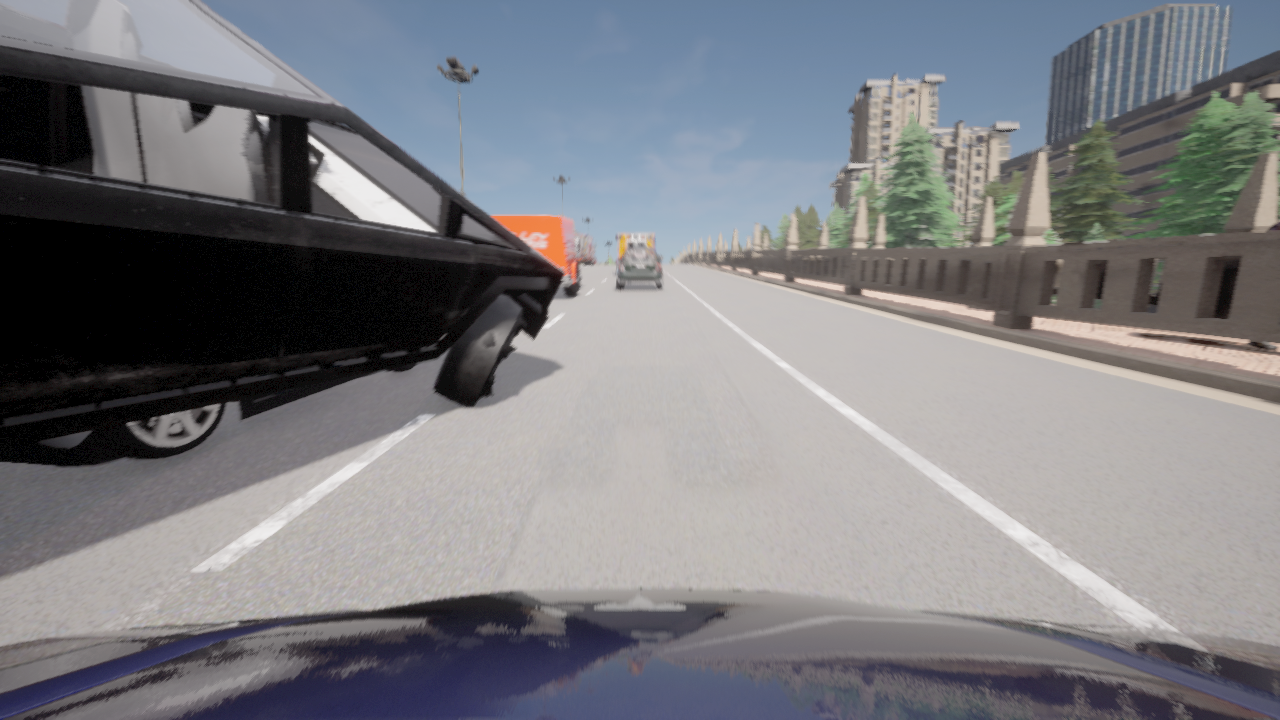cyclist: (0, 588, 1279, 719), (0, 363, 416, 466), (491, 215, 583, 295), (617, 247, 662, 289), (616, 233, 654, 269), (574, 229, 596, 264)
pedestrian: (1247, 221, 1279, 348)
